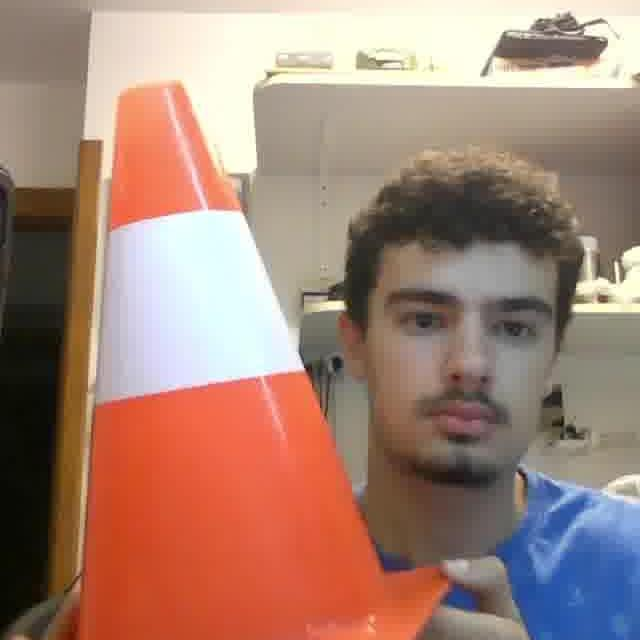NO-Hardhat: (365, 140, 570, 278)
NO-Mask: (388, 386, 541, 482)
NO-Safety Vest: (361, 494, 640, 640)
Person: (0, 147, 640, 640)
Safety Cone: (0, 81, 463, 640)
